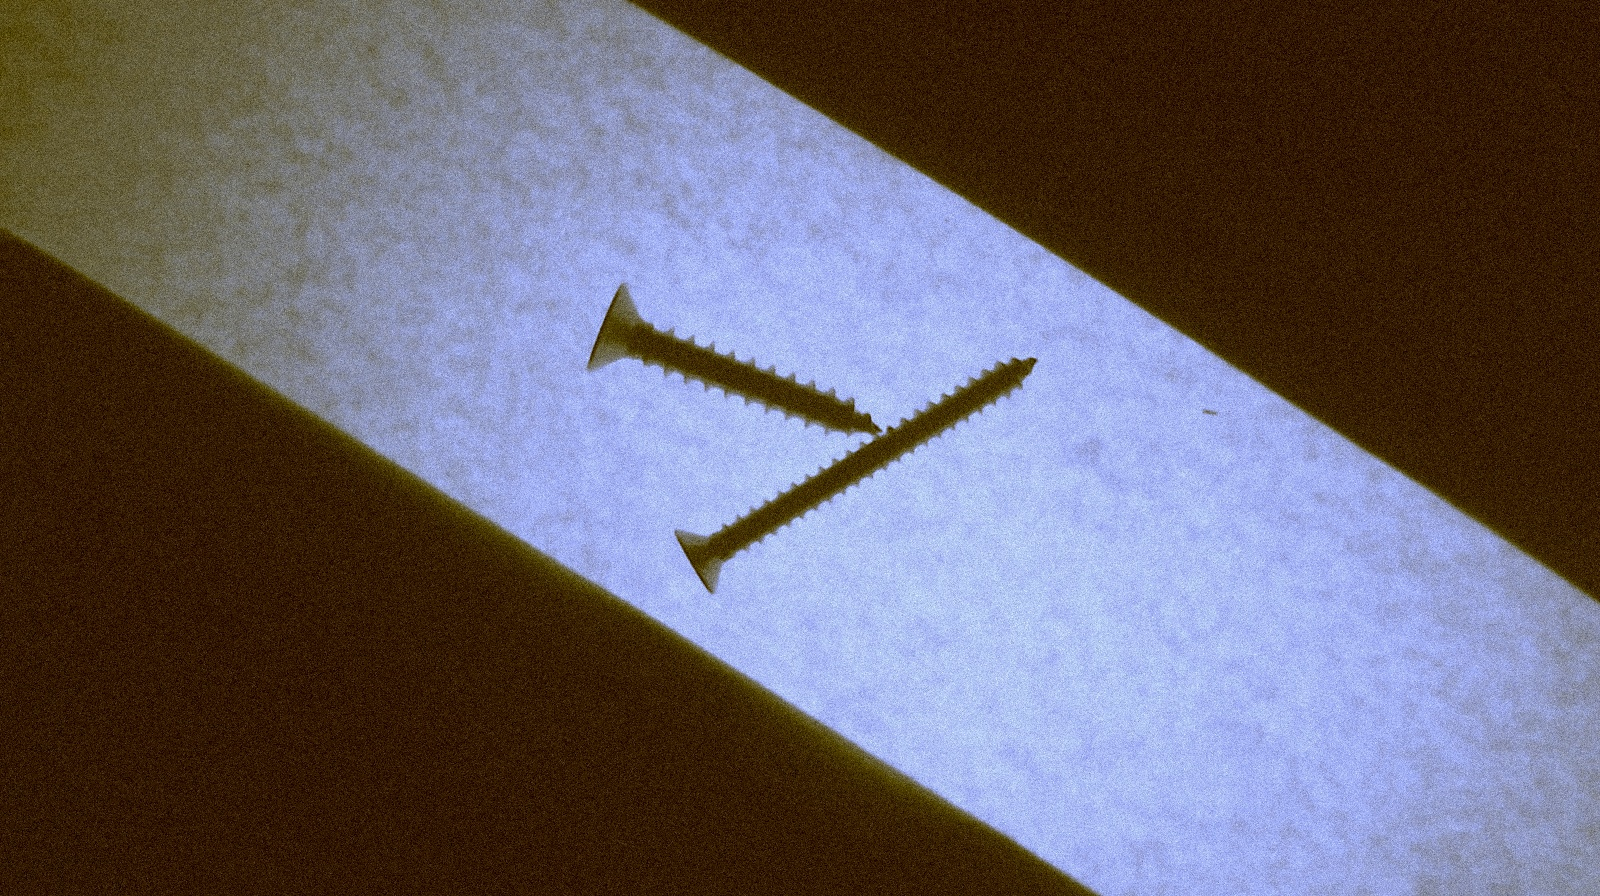S001: (582, 279, 881, 438)
S002: (664, 352, 1037, 594)
